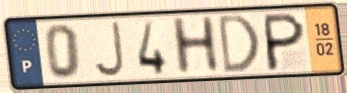0: (42, 22, 84, 82)
4: (135, 18, 171, 78)
D: (216, 11, 261, 77)
H: (168, 14, 223, 78)
J: (91, 20, 127, 79)
P: (263, 10, 307, 73)
